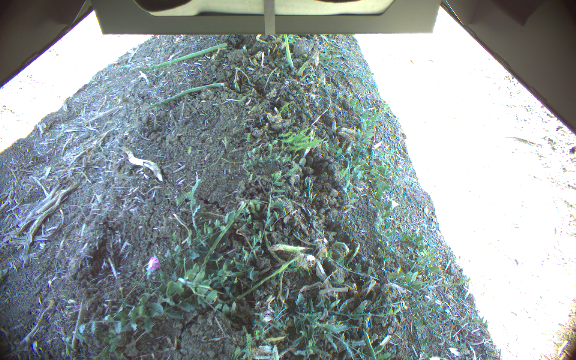aspa: (282, 34, 295, 69), (268, 243, 308, 253), (296, 59, 310, 77)
